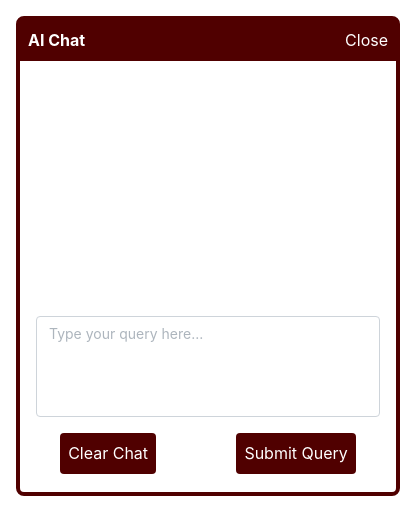
Test case: AIModal Component › clears input when Clear Chat button is clicked
Type "test query" into the text box with placeholder "Type your query here...".
click(208, 366); type("test query")  # box [36,316,380,417]
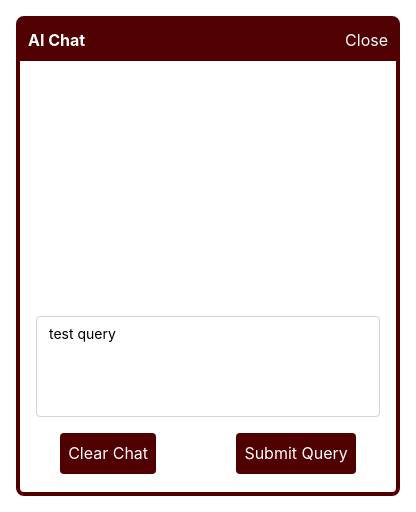
Click the button "Clear Chat".
click(108, 453)  # box [60,433,156,474]
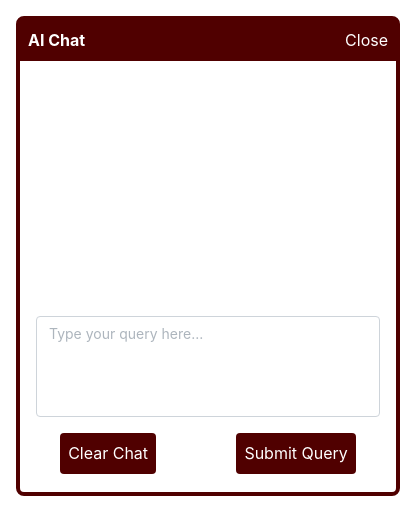
Expected: the text box with placeholder "Type your query here..." is empty, [36,316,380,417]
